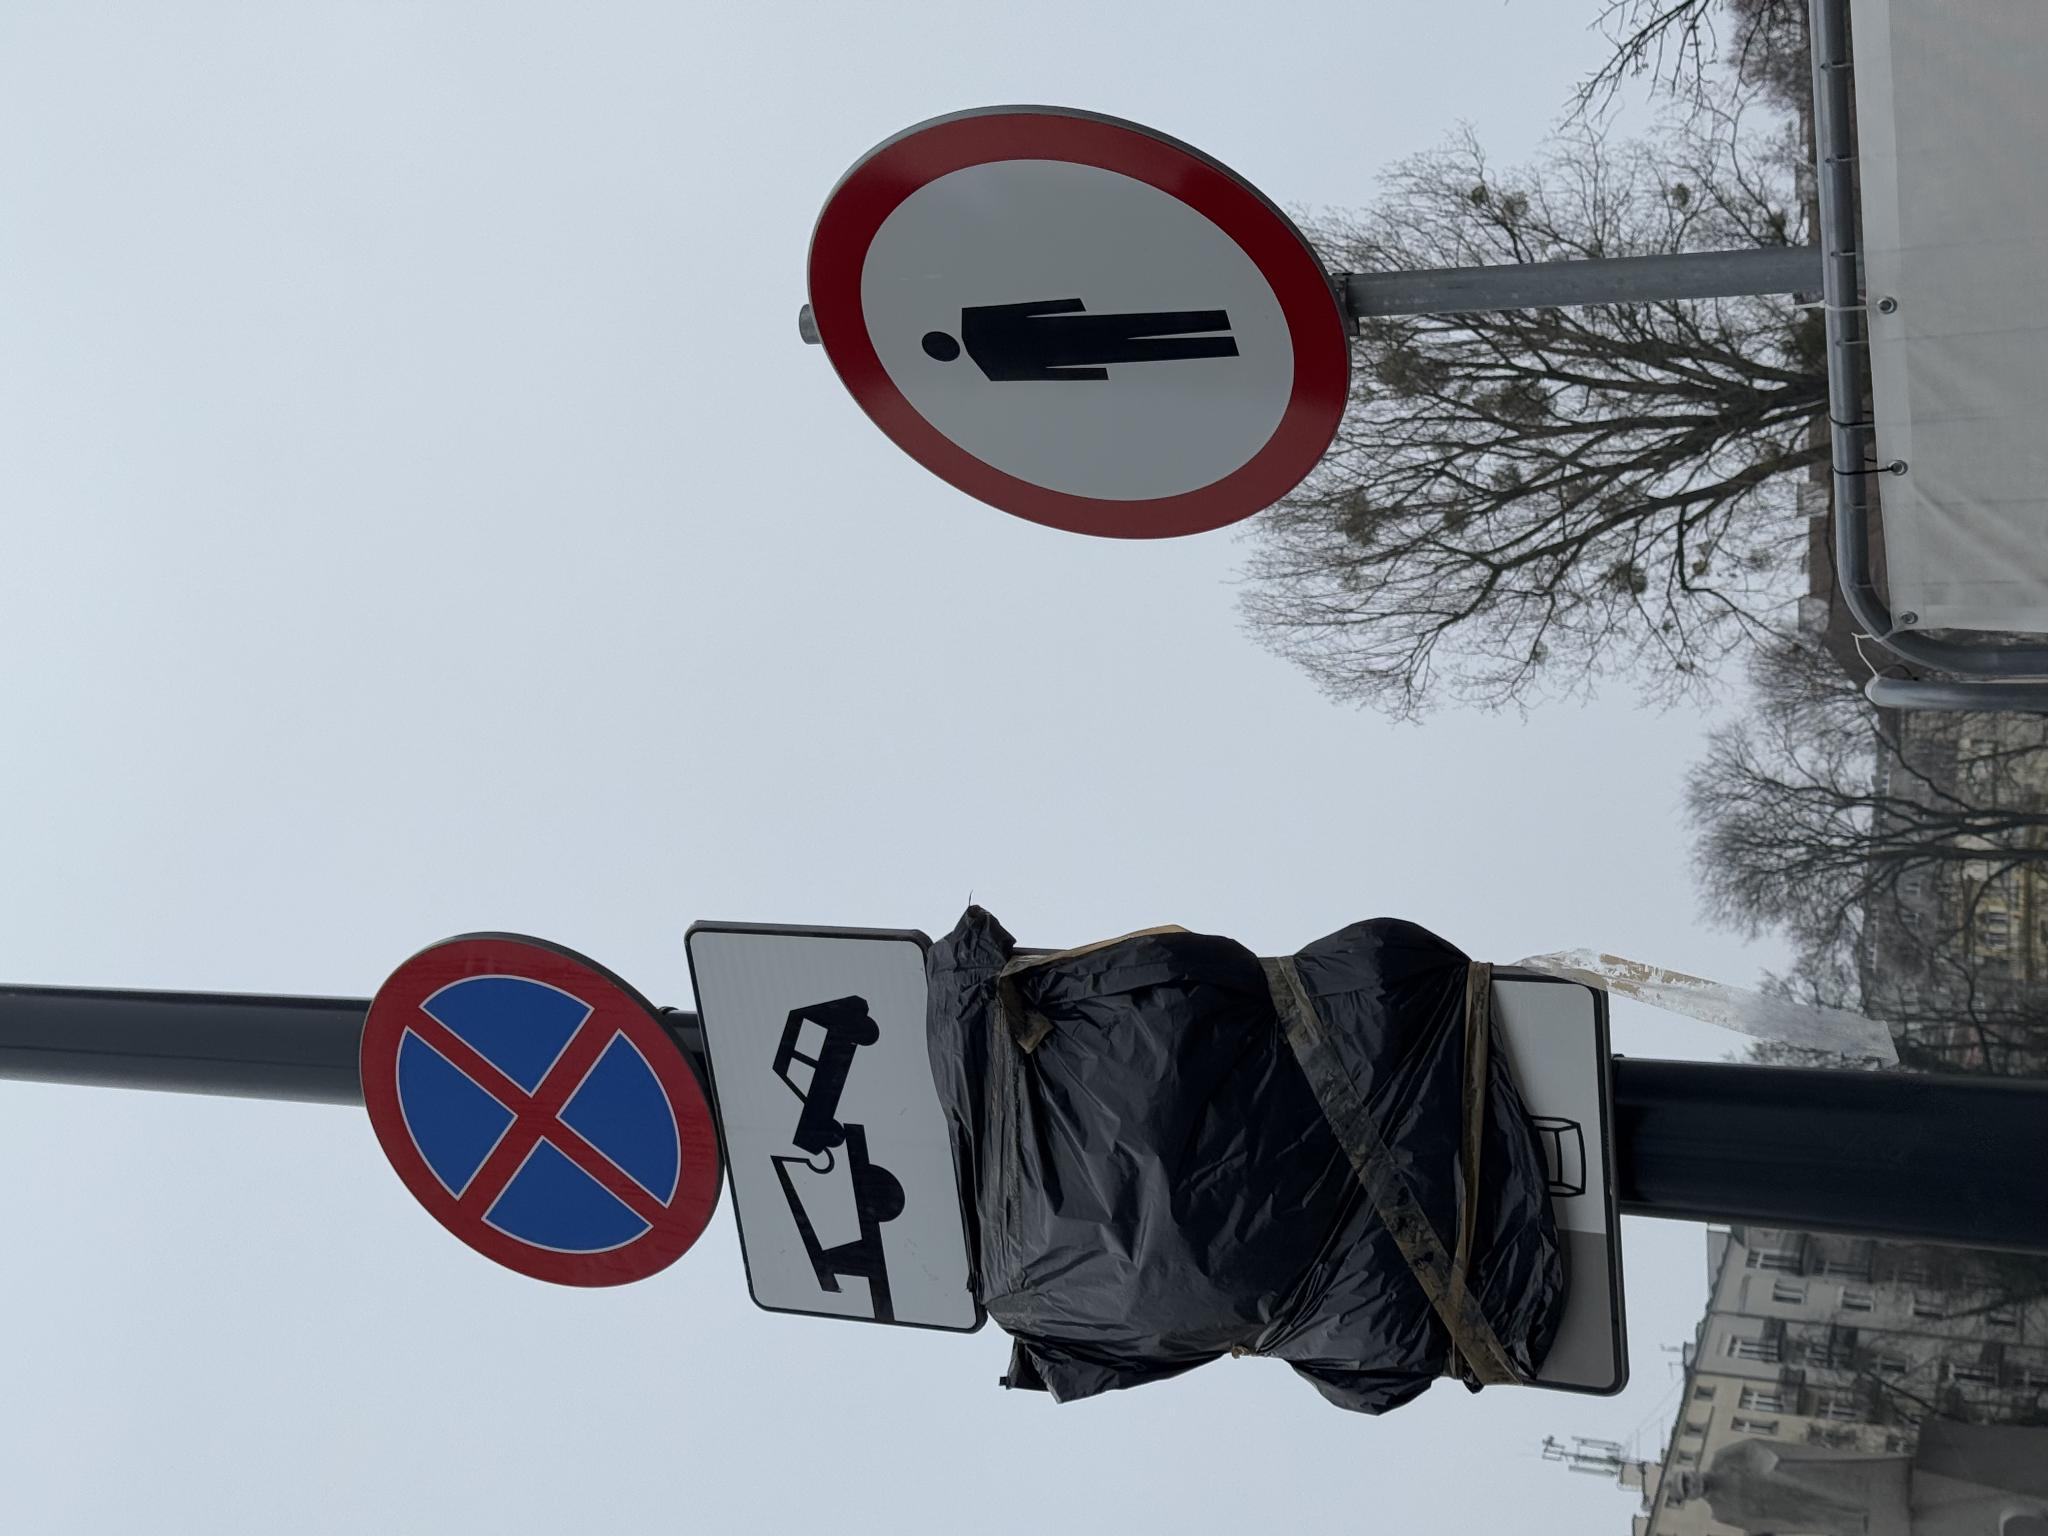other: (195, 686, 616, 986)
prohibitory: (992, 800, 1435, 1355), (242, 352, 613, 731)
